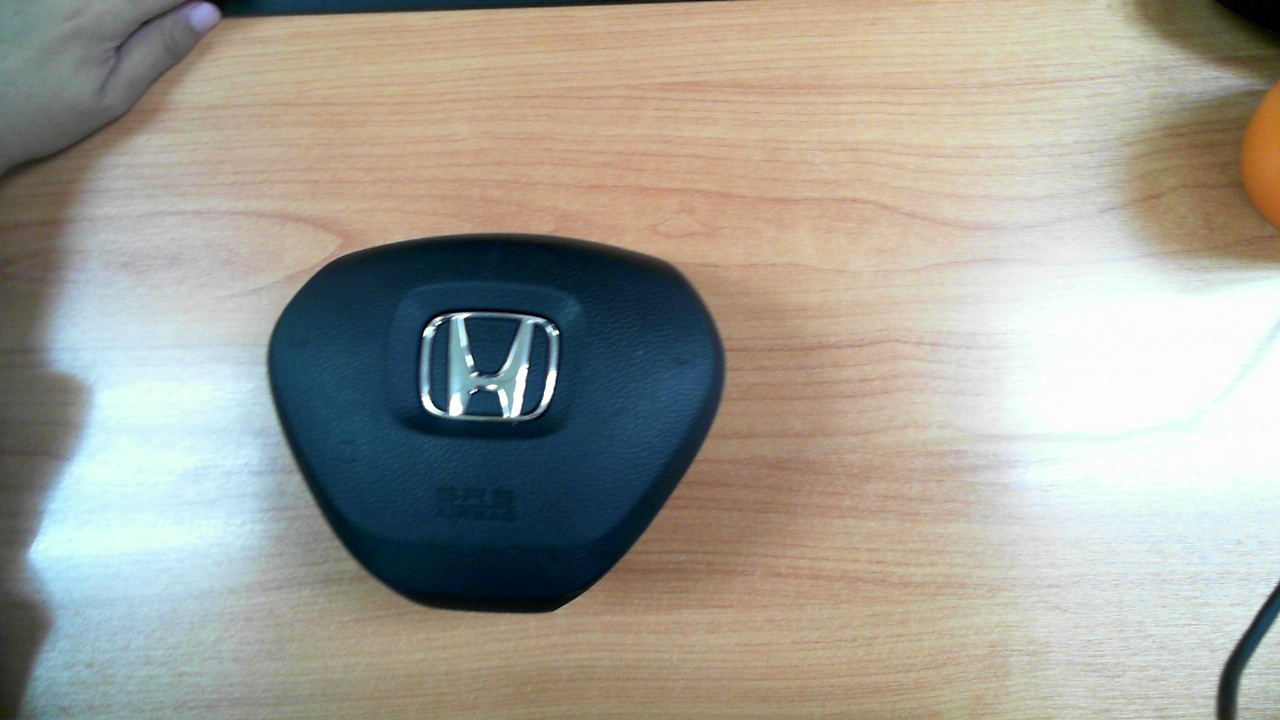Airbag: (266, 232, 725, 616)
Honda: (420, 311, 560, 421)
